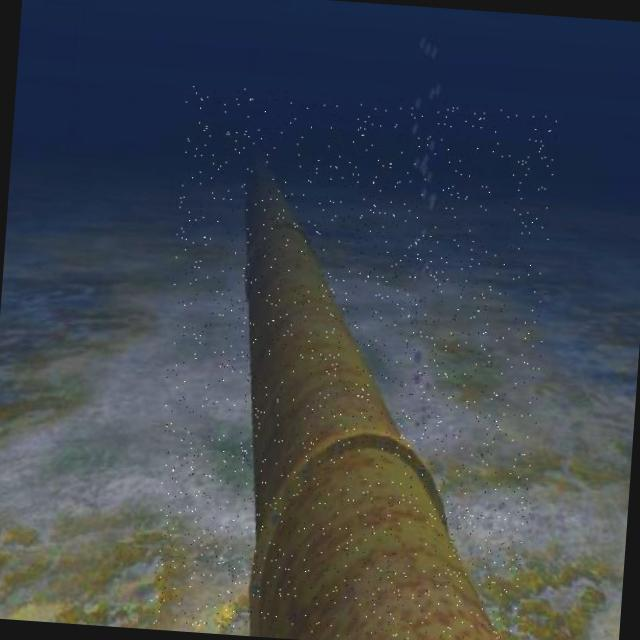gas: (245, 167, 501, 640)
